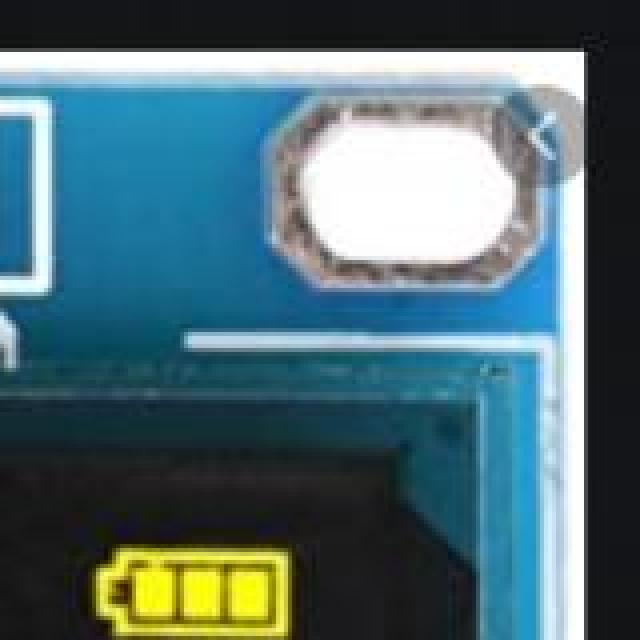display: (0, 340, 504, 640)
